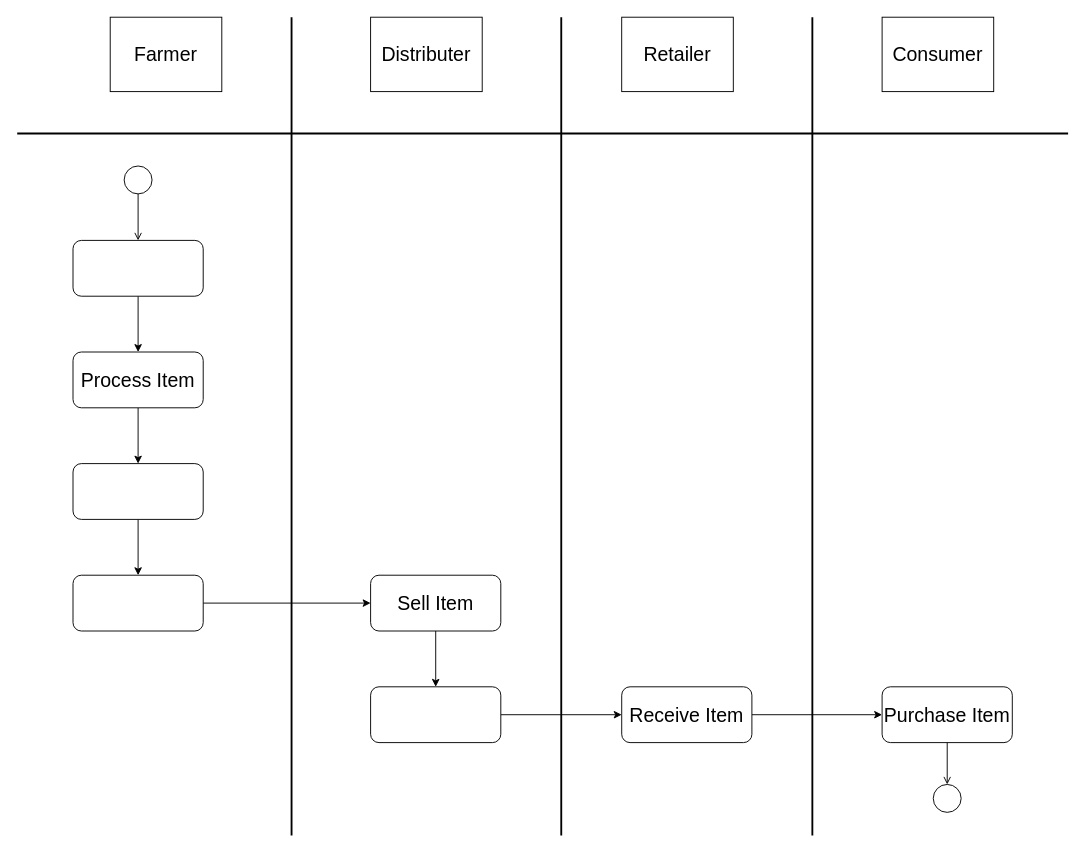
Image size: 1084x852. Some labels were removed from this diagram. The shapes that lost their labels are listed below. From the top down, each one's centre as x and y in pixels, then its label:
(x=137, y=267): Harvest Item
(x=137, y=491): Pack Item
(x=137, y=602): Buy Item
(x=435, y=714): Shipping Item
